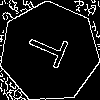T: (24, 27, 78, 74)
